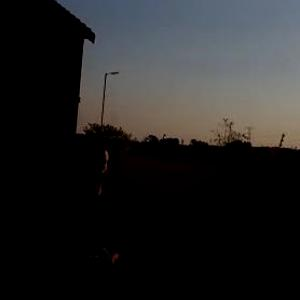follow: (37, 132, 136, 299)
